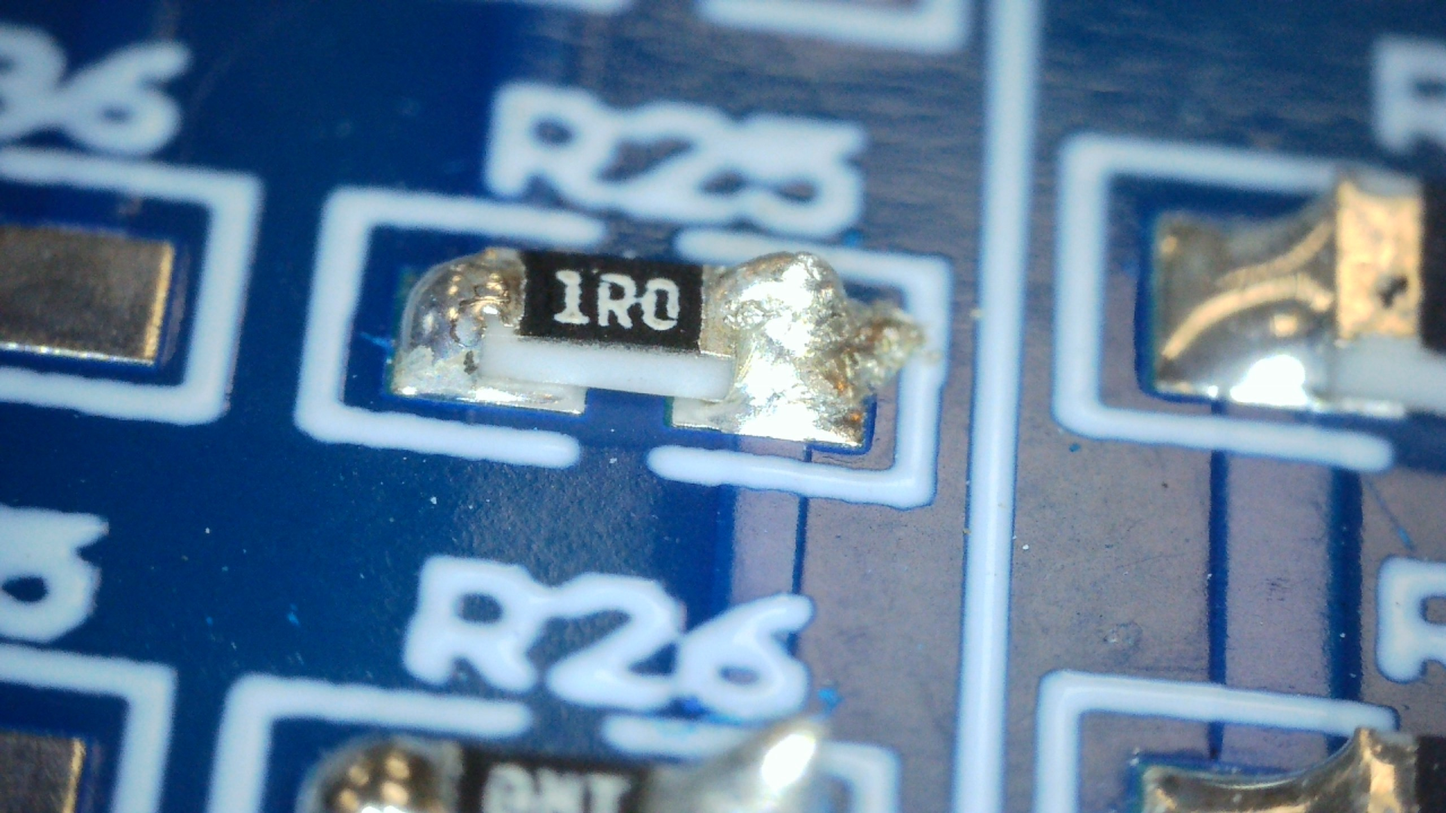NG: (713, 252, 922, 448), (394, 247, 525, 393)
